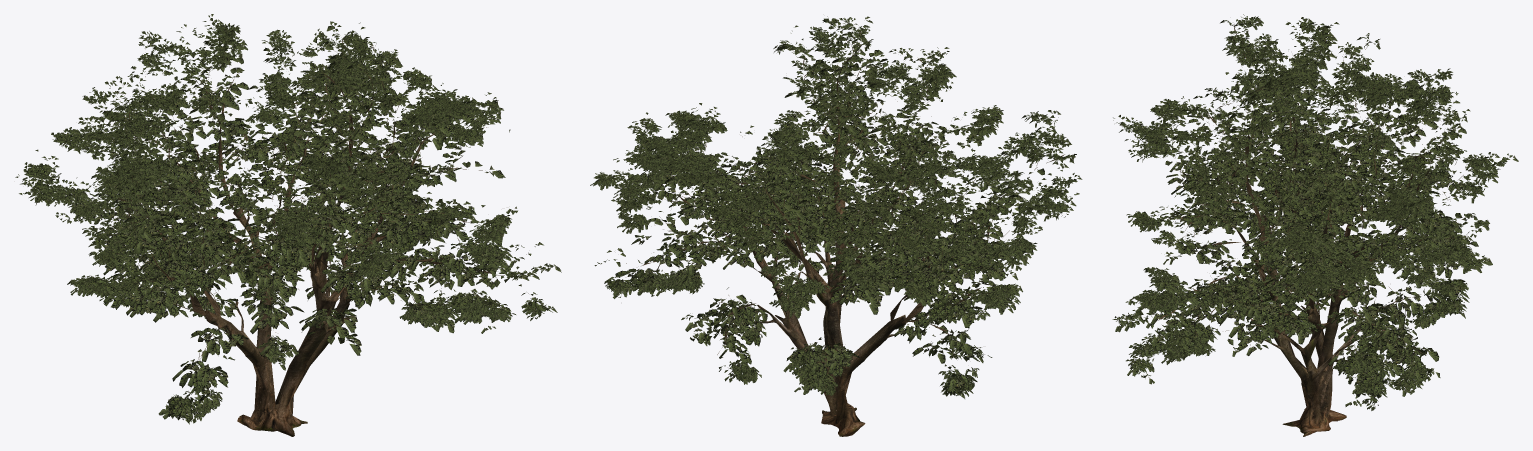
The model's file is tree.glb.
The picture shows the model from 3 angles, left to right: view 1: azimuth 30°, elevation 25°; view 2: azimuth 150°, elevation 25°; view 3: azimuth 270°, elevation 25°; orthographic projection. The views are drawn at different scales.
Parts seen in each view (by area): view 1: jacaranda_tree_LOD0; view 2: jacaranda_tree_LOD0; view 3: jacaranda_tree_LOD0.
Part boxes in pixels (x1,y1,x2,y2): jacaranda_tree_LOD0: (15, 14, 561, 436); jacaranda_tree_LOD0: (590, 16, 1082, 436); jacaranda_tree_LOD0: (1112, 14, 1518, 436).
Size of the model in its own units: 24.24 by 19.41 by 19.1.
Materials: 3 (3 with a texture image).
